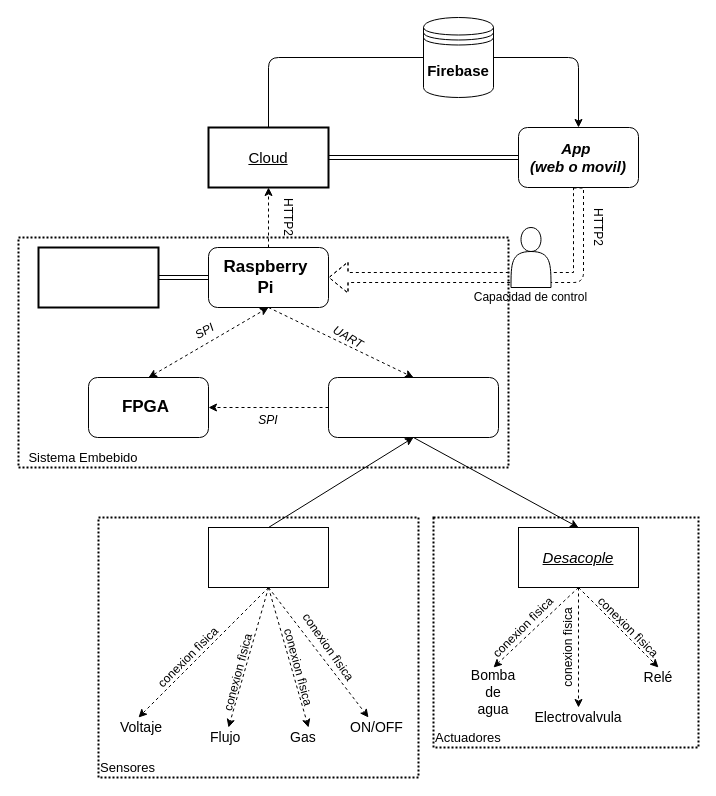
Some shapes in this 716 by 796 pixel diagram are drawn without their labels. The centre of each missing label's shape, as x and y in pixels:
Acondicionamiento: (268,557)
Microcontrolador: (413,407)
Servidor local: (98,277)
